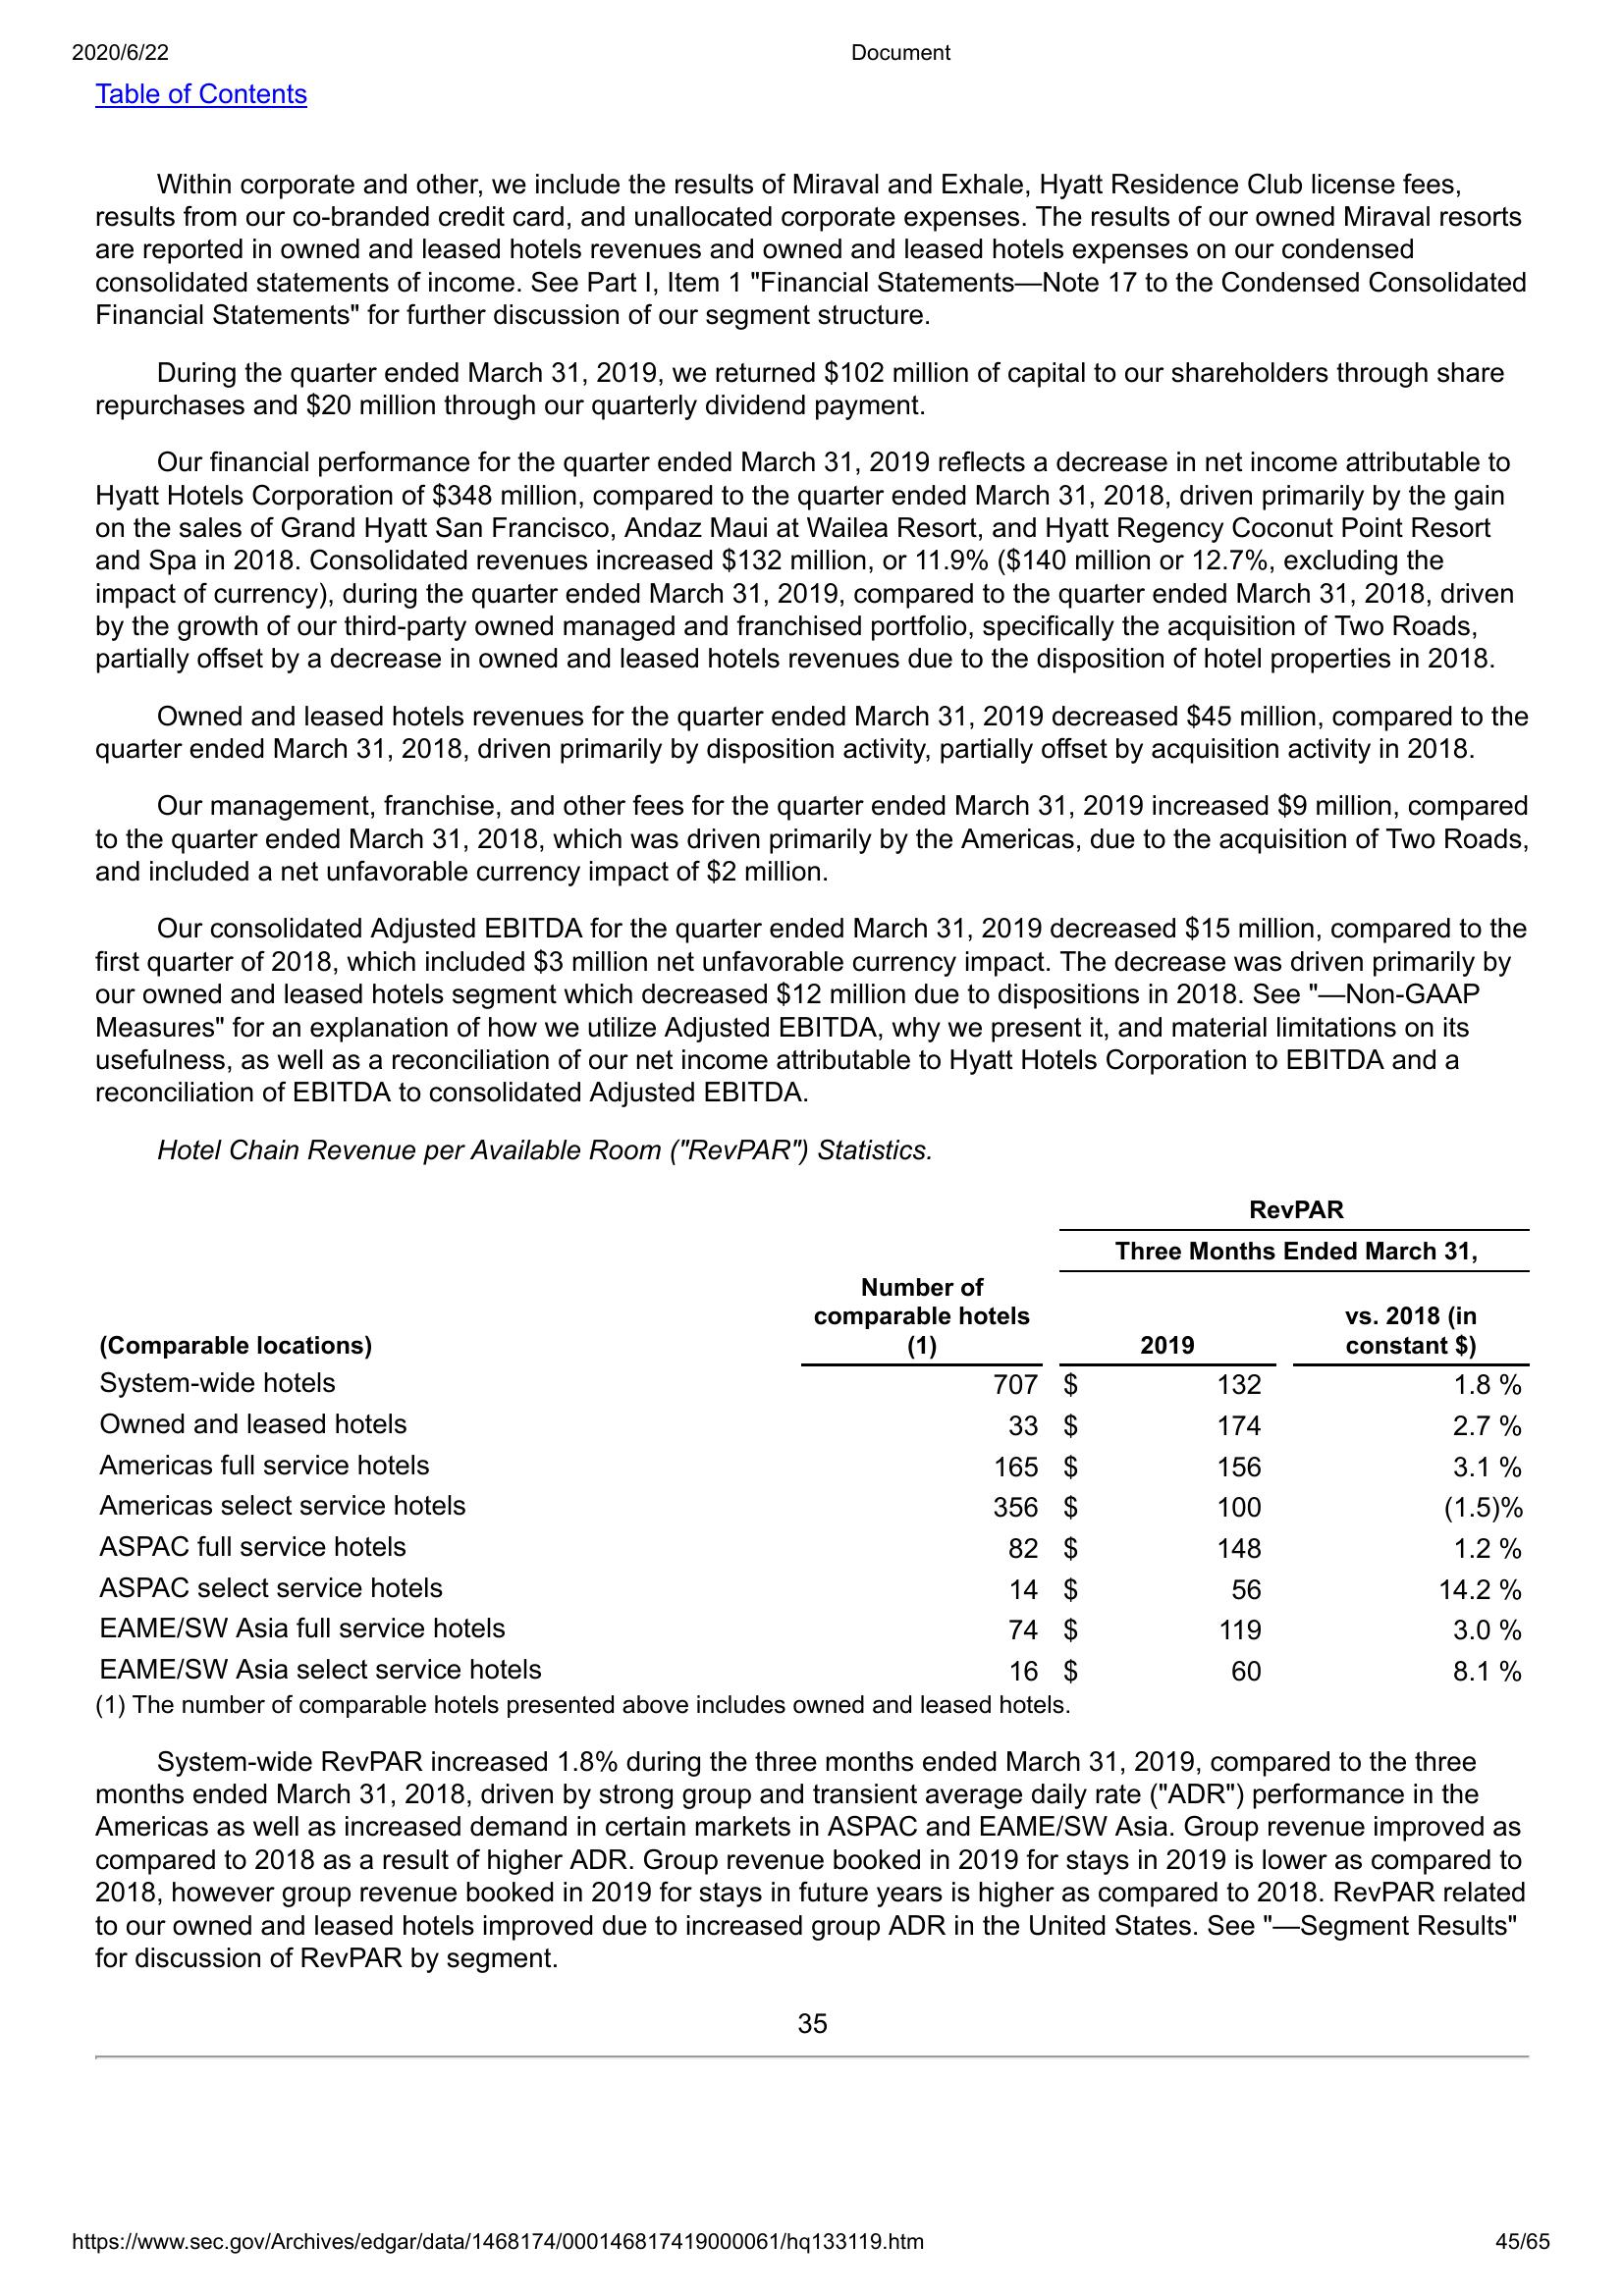table: (88, 1190, 1533, 1692)
